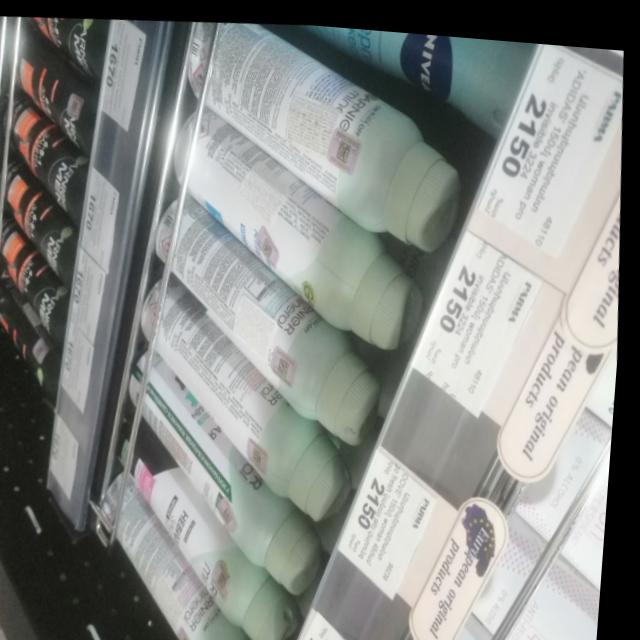datamatrix: (336, 133, 356, 160), (255, 442, 273, 465), (281, 352, 296, 376), (263, 234, 278, 255)
